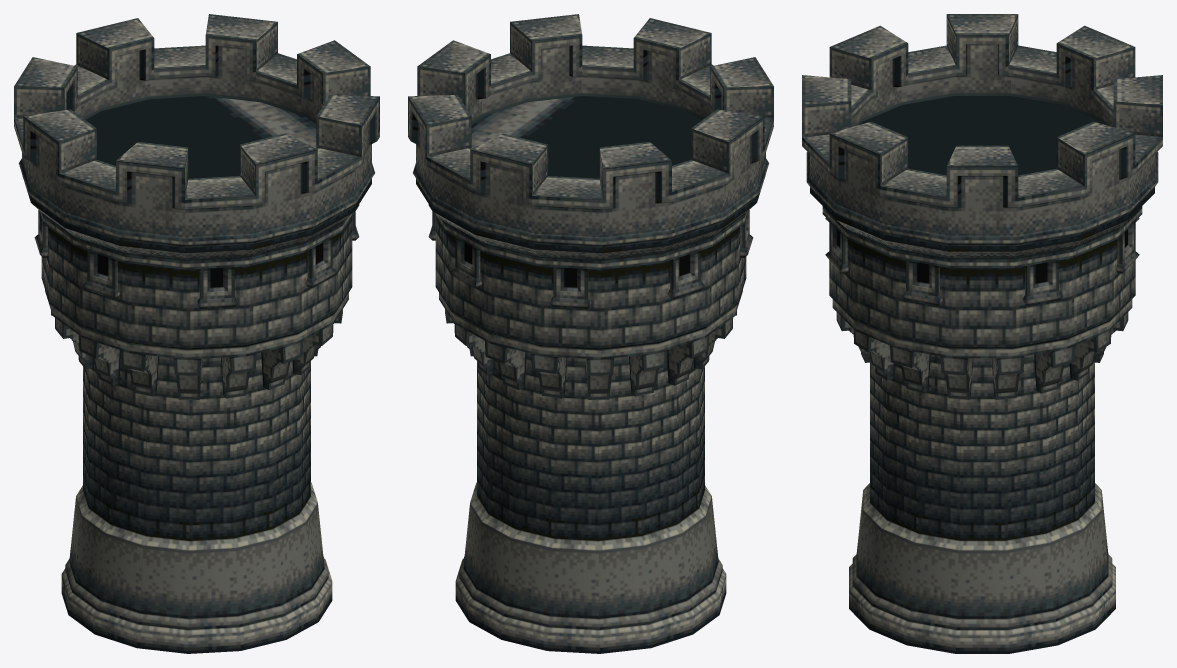
The model's file is EnvBdgMD_Castle_Rain_A_Tower_A_S.FBX.
The picture shows the model from 3 angles, left to right: view 1: azimuth 30°, elevation 25°; view 2: azimuth 150°, elevation 25°; view 3: azimuth 270°, elevation 25°; orthographic projection.
Parts seen in each view (by area): view 1: EnvBdgMD_Castle_Rain_A_Tower_A_S; view 2: EnvBdgMD_Castle_Rain_A_Tower_A_S; view 3: EnvBdgMD_Castle_Rain_A_Tower_A_S.
Boxes of the visible parts, <box> form: EnvBdgMD_Castle_Rain_A_Tower_A_S: <box>14,14,379,653</box>; EnvBdgMD_Castle_Rain_A_Tower_A_S: <box>408,14,773,653</box>; EnvBdgMD_Castle_Rain_A_Tower_A_S: <box>802,14,1162,653</box>.
Bounding box in the file's own units: 519 × 805 × 519.
